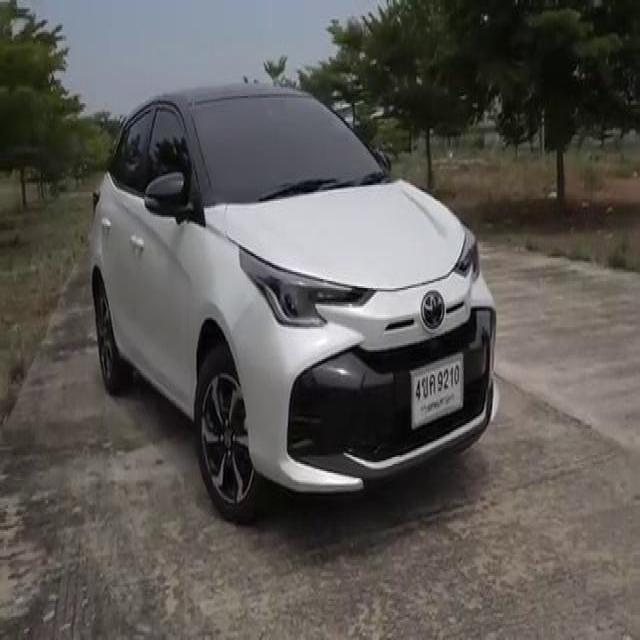Hatchback: (90, 84, 497, 521)
